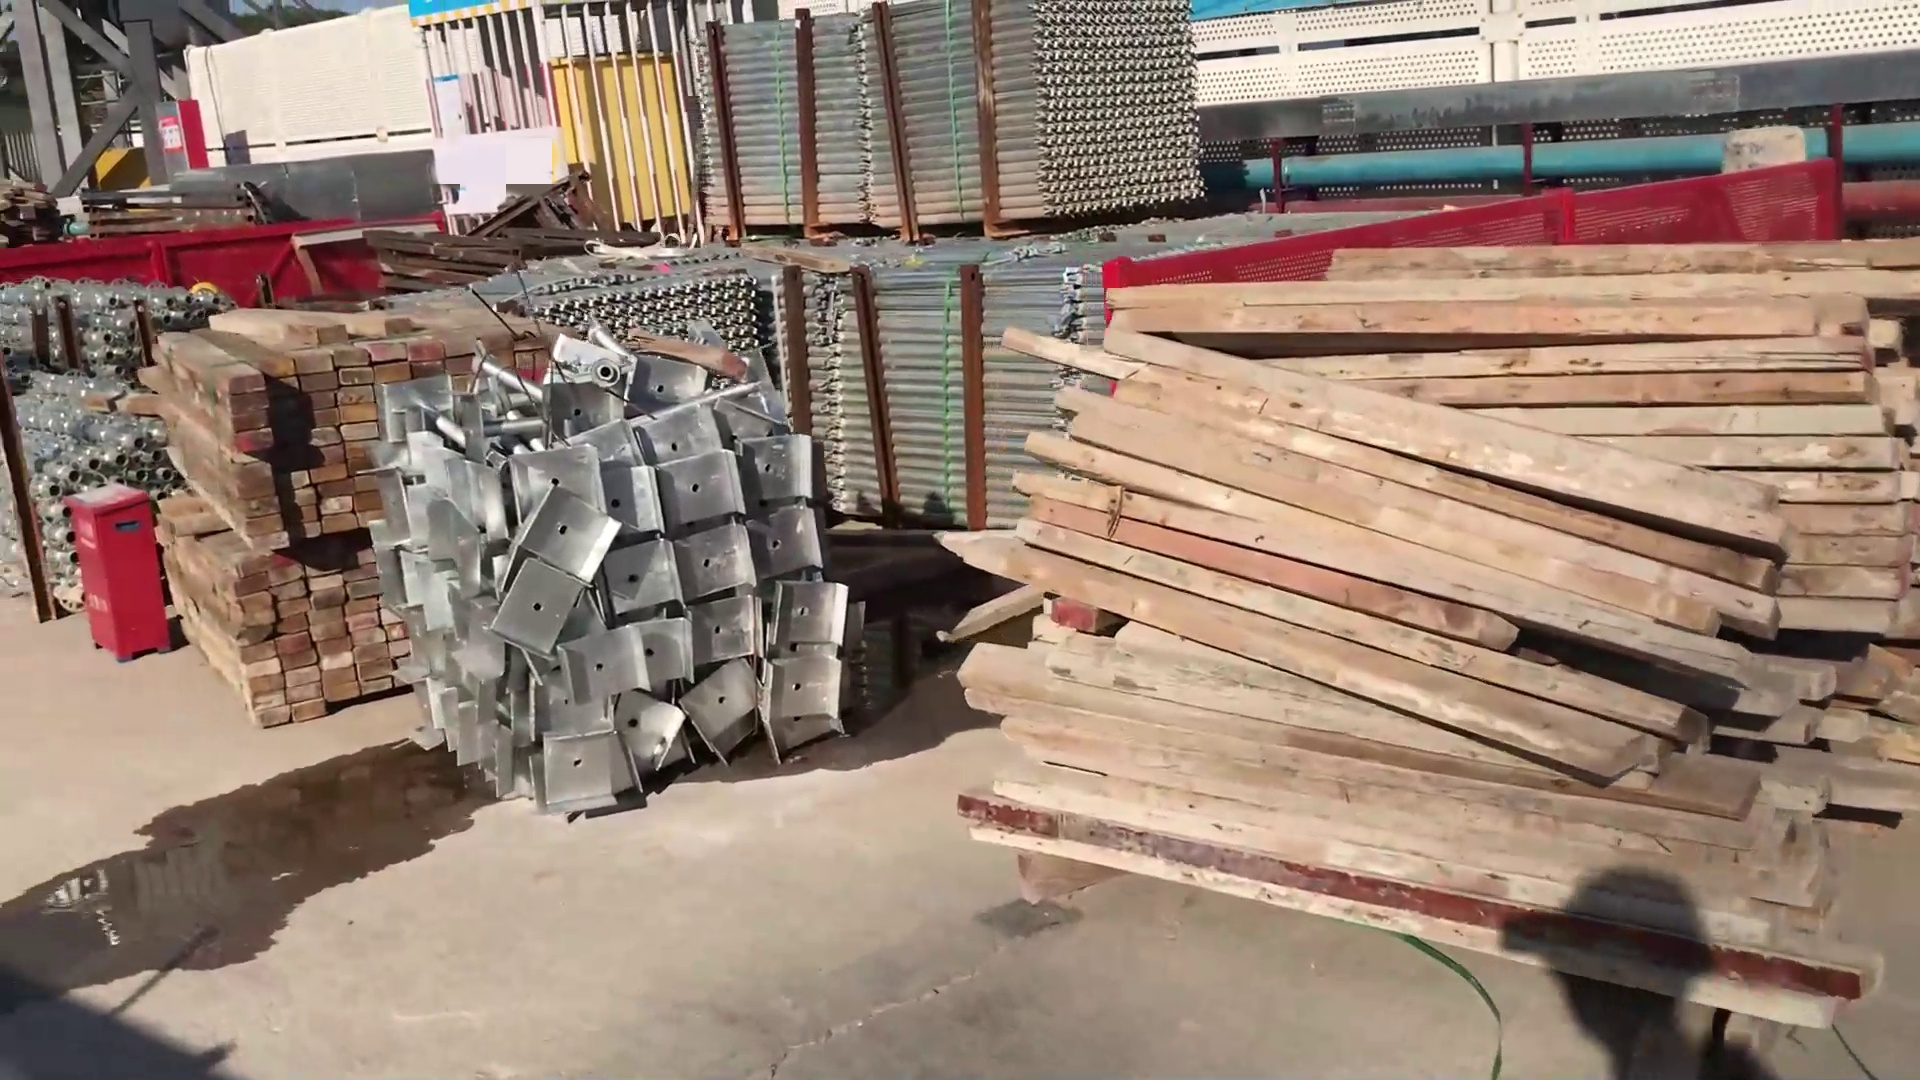fence: (152, 218, 385, 297)
scaffold: (708, 3, 1203, 200), (820, 280, 1050, 520), (13, 280, 160, 615), (579, 285, 781, 345)
wood: (1011, 289, 1920, 1023), (140, 328, 431, 709)
